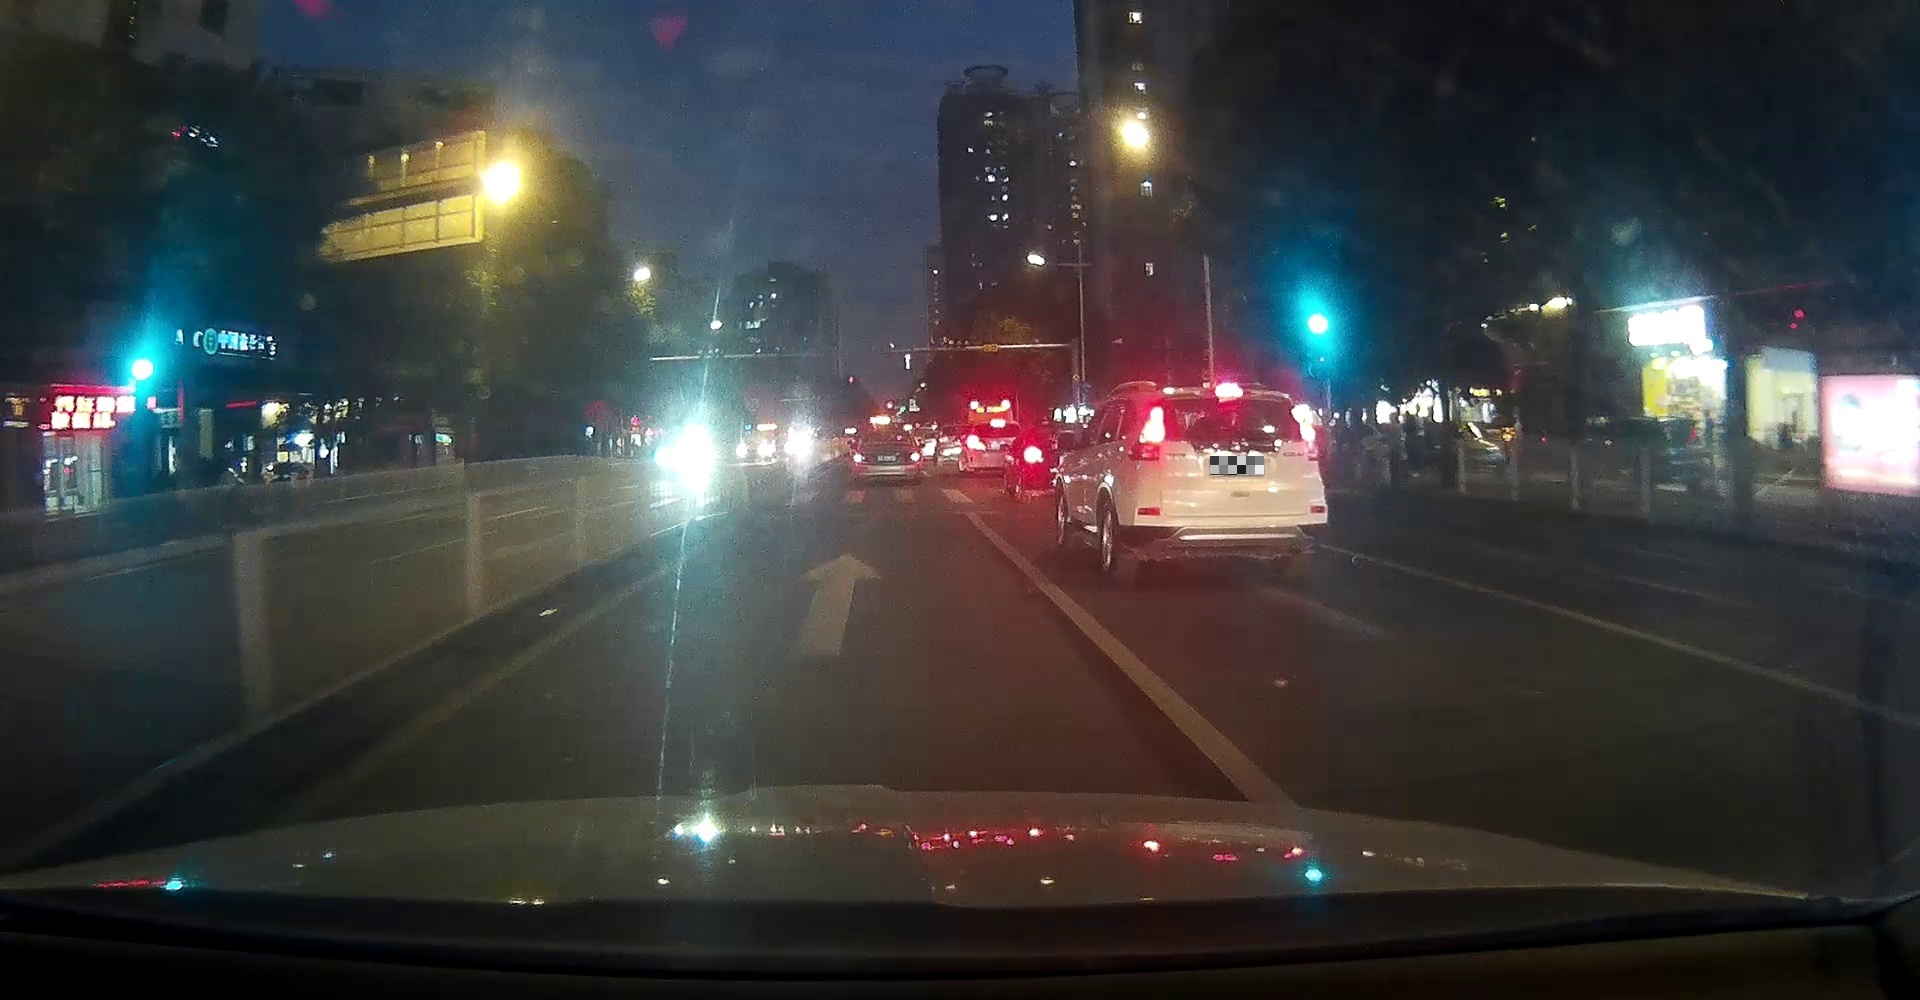L_light: (1137, 405, 1164, 444), (853, 453, 865, 463)
R_light: (1290, 404, 1316, 442), (909, 452, 919, 462)
T_light: (1214, 386, 1243, 398), (881, 433, 891, 437)
night-brake: (1126, 381, 1328, 581)
night-no: (852, 429, 921, 485)
plate_1: (1210, 456, 1263, 475)
